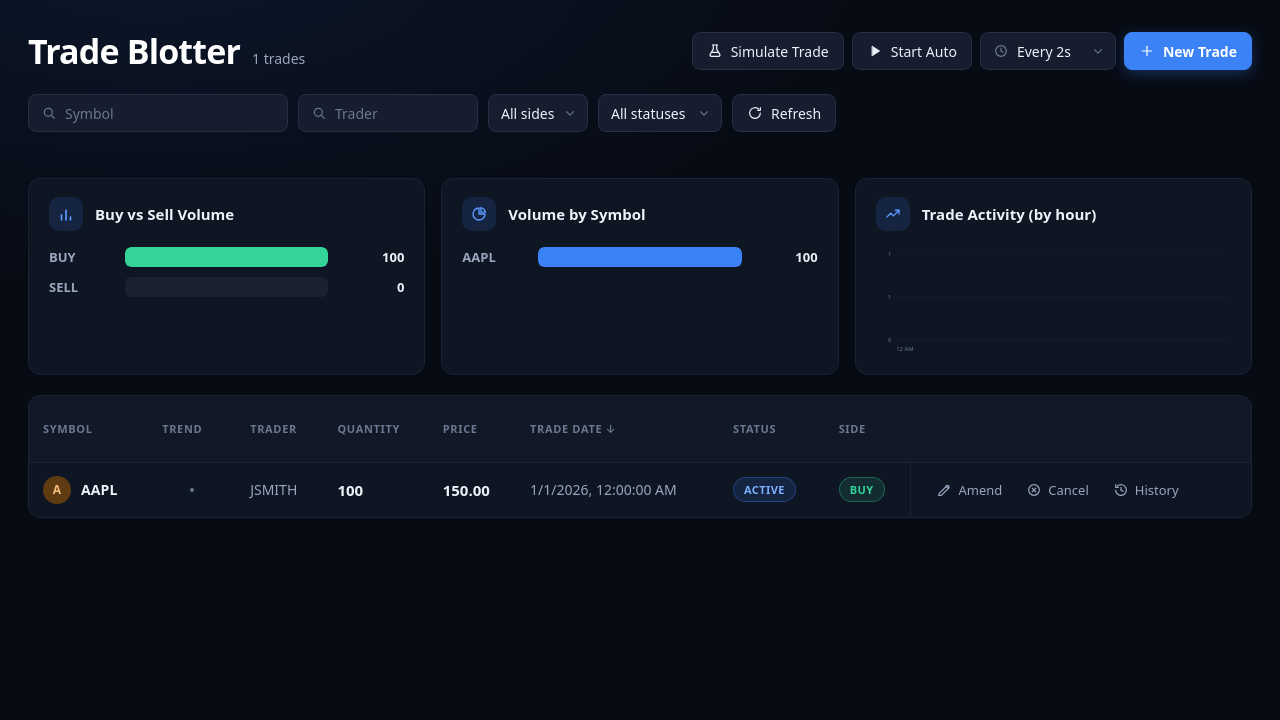
Test: TradeBlotterPage › latches the row's Cancel button while the request is in flight
This screenshot has width=1280, height=720.
Click the button "Cancel" at [1058, 490], box left=1015, top=475, right=1100, bottom=505
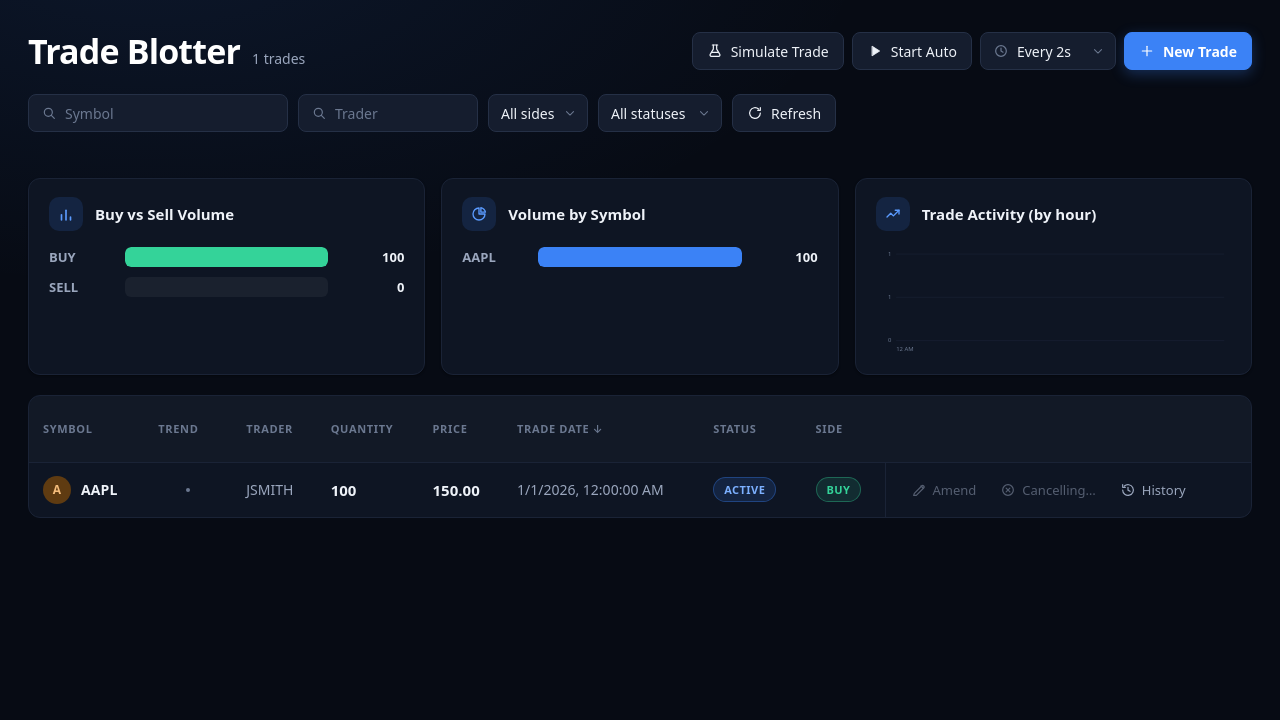
Expected: the button "Cancelling…" is disabled
Click the button "Cancelling…" at [1048, 490], box left=989, top=475, right=1107, bottom=505
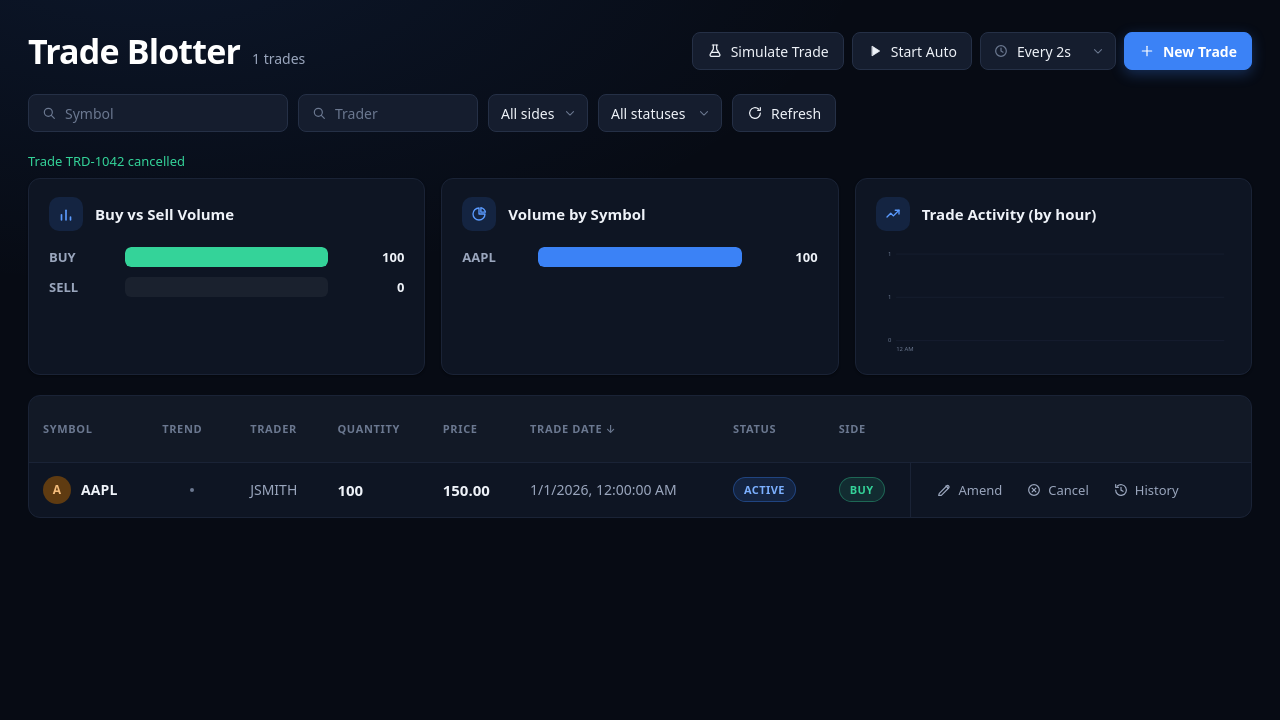
Expected: the button "Cancelling" is gone
